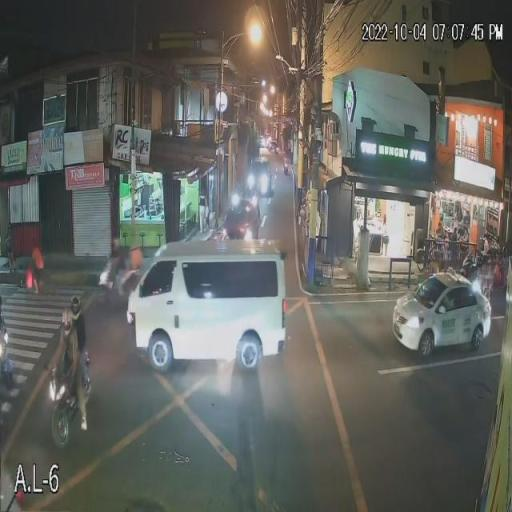helmet: (71, 297, 82, 322), (62, 310, 73, 335)
motorcycle: (42, 364, 102, 443)
rider: (60, 313, 77, 386), (70, 298, 86, 358)
